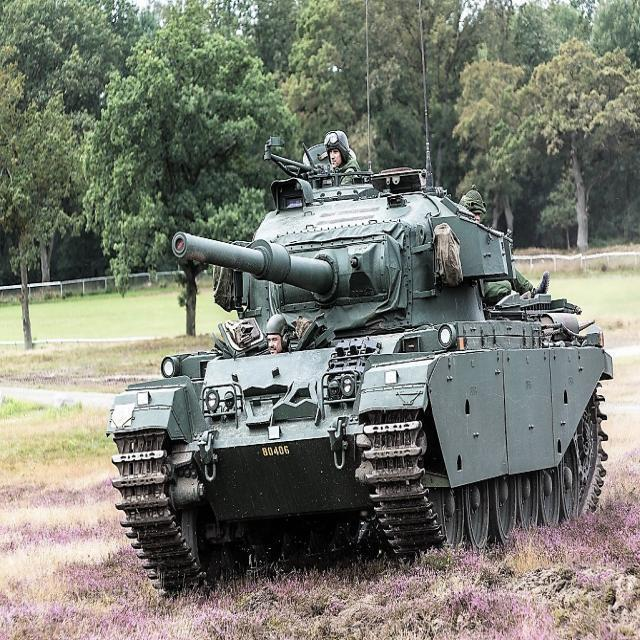MIL_MBT: (106, 126, 614, 599)
